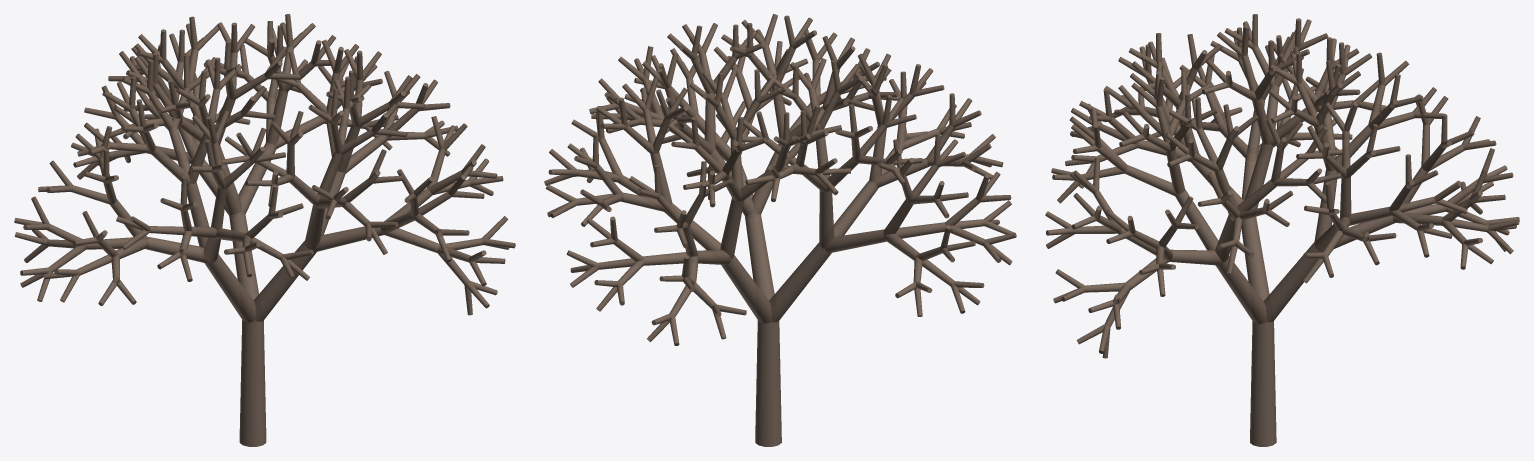
The model's file is fractaltree1_5.glb.
3 views of the same model, side by side, from view 1: azimuth 30°, elevation 25°; view 2: azimuth 150°, elevation 25°; view 3: azimuth 270°, elevation 25° (orthographic).
Bounding box in the file's own units: 10.85 × 9.76 × 10.85.
